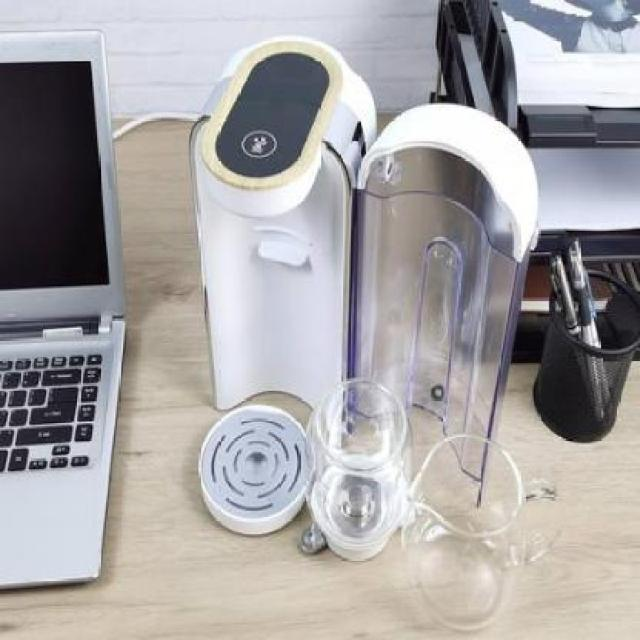cooler: (188, 32, 539, 543)
